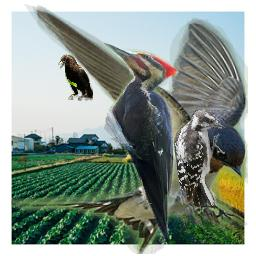Crow: (58, 54, 93, 101)
Swallow: (11, 3, 248, 254)
Woodpecker: (101, 41, 179, 245), (174, 109, 226, 210)
